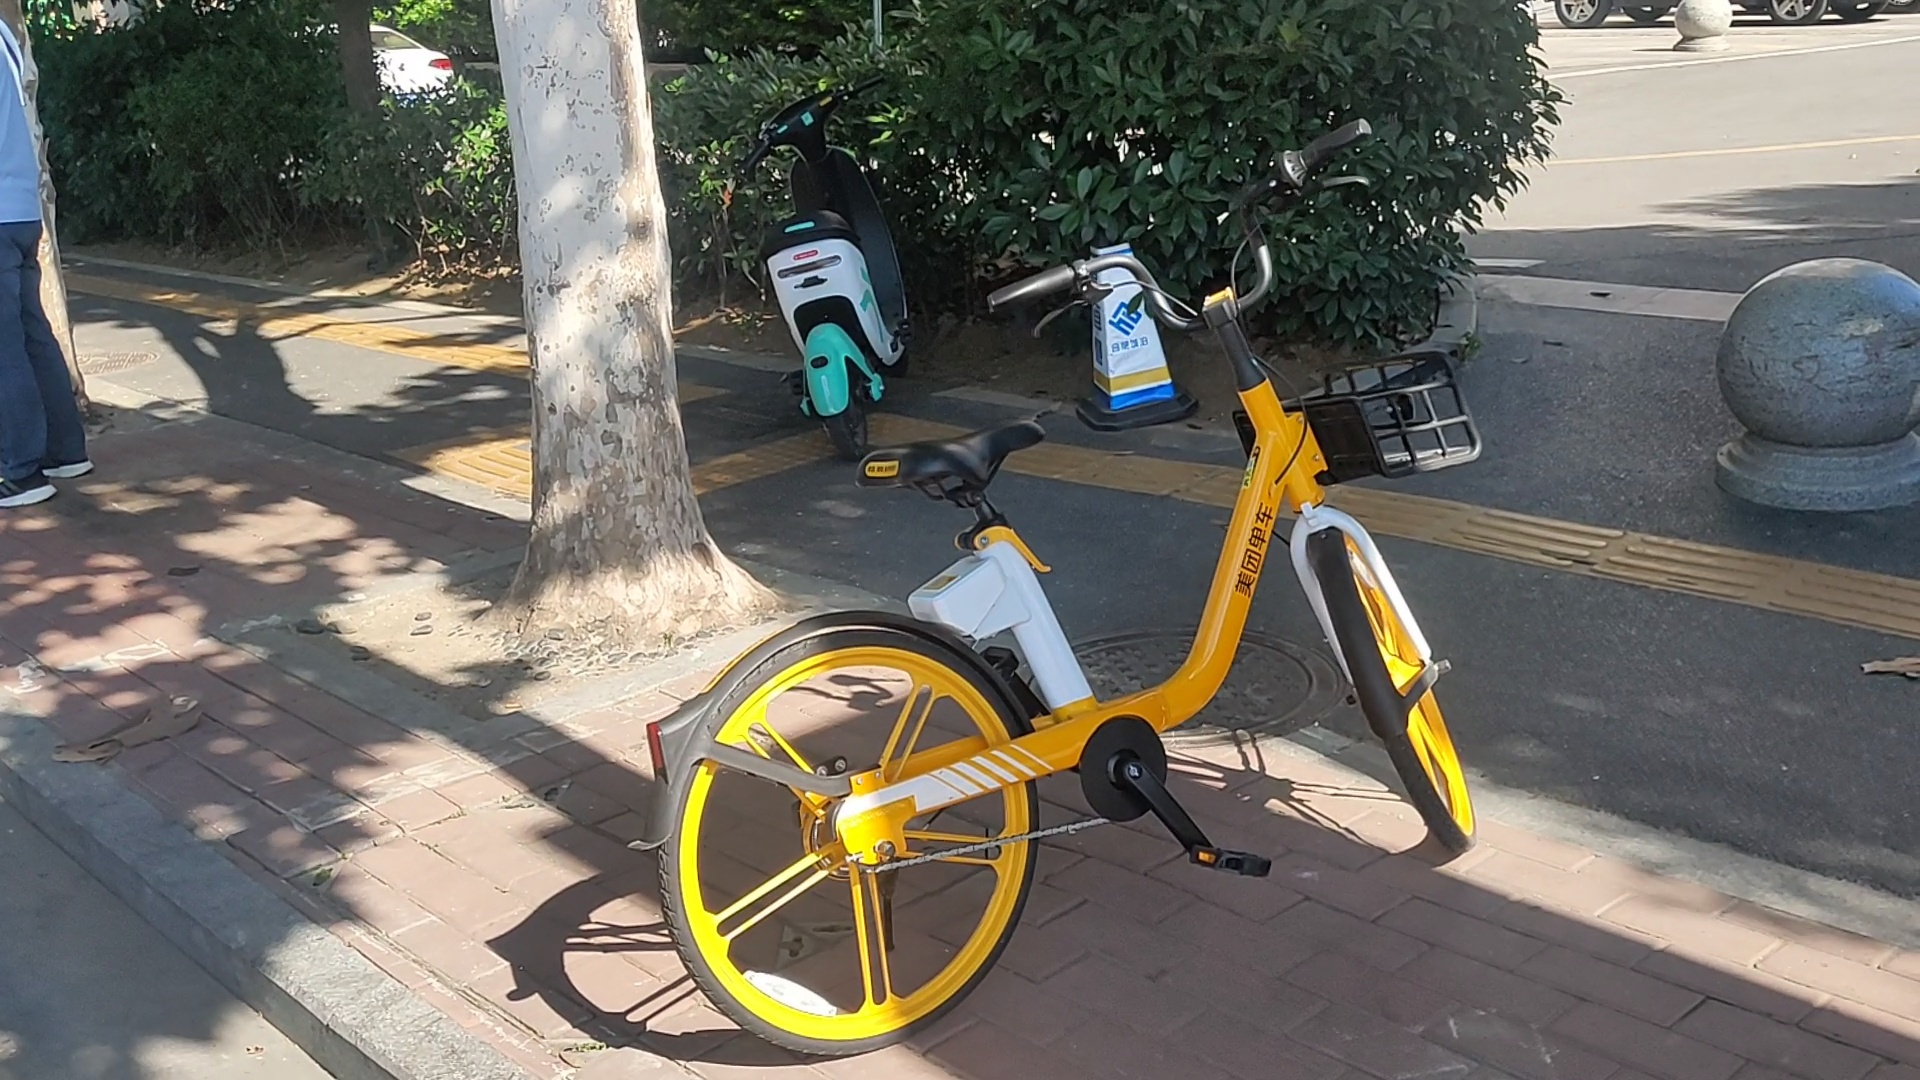non-vehicle: (655, 219, 1466, 1065), (737, 69, 916, 462)
